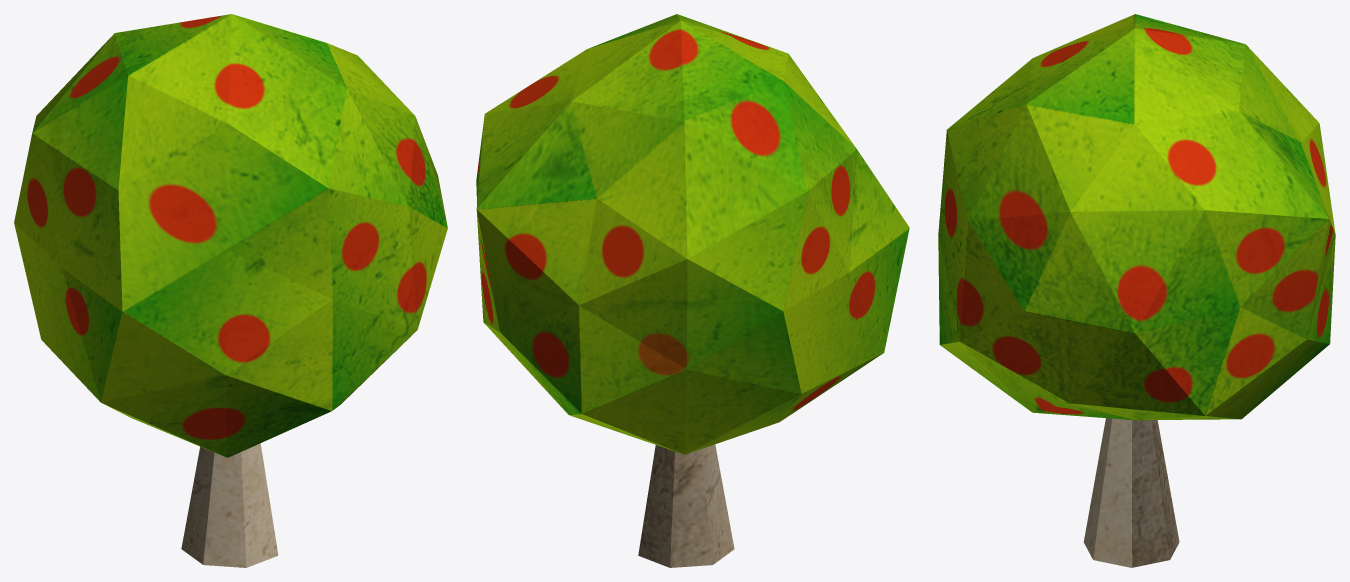
File: apfelbaum.fbx
3 renders of one model, left to right at view 1: azimuth 30°, elevation 25°; view 2: azimuth 150°, elevation 25°; view 3: azimuth 270°, elevation 25°, orthographic. The views are drawn at different scales.
Visible parts, largest first — view 1: laubbaum3_final_1; view 2: laubbaum3_final_1; view 3: laubbaum3_final_1.
Part boxes in pixels (bbox=[...]): laubbaum3_final_1: bbox=[14, 14, 447, 567]; laubbaum3_final_1: bbox=[476, 14, 909, 567]; laubbaum3_final_1: bbox=[938, 14, 1335, 567].
Bounding box in the file's own units: 547 × 739 × 512.
